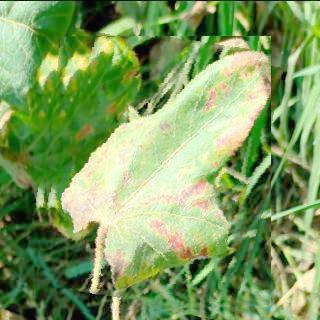blight: (32, 35, 271, 313)
